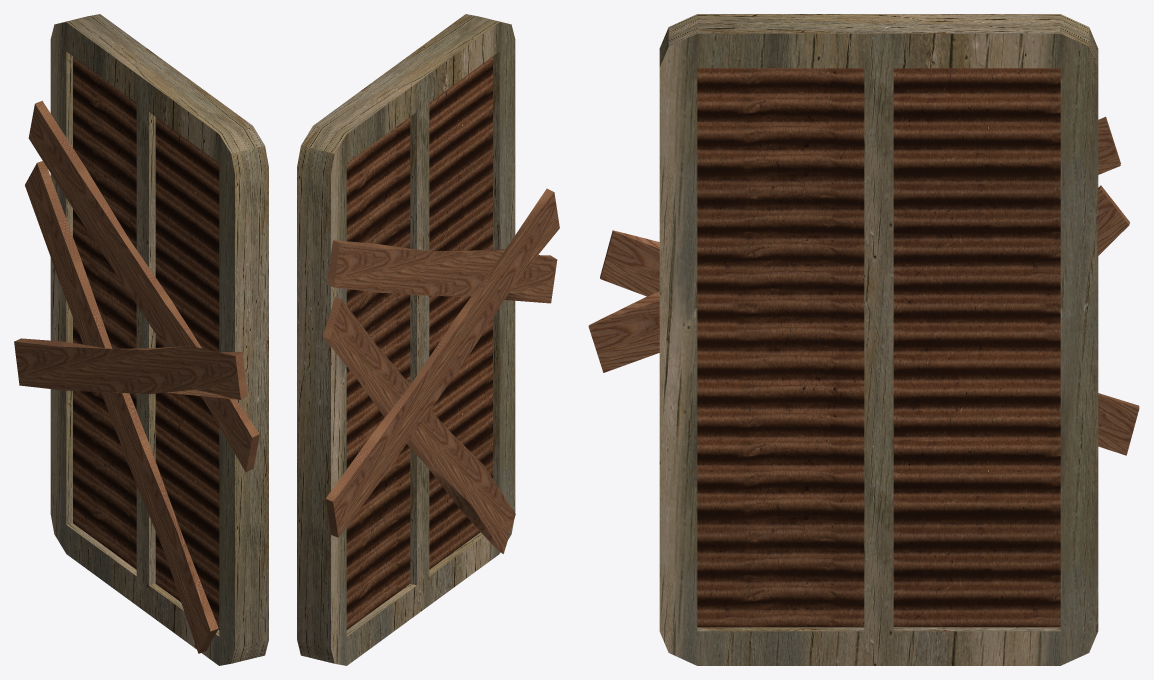
File: boardedwindow3.FBX
3 renders of one model, left to right at view 1: azimuth 30°, elevation 25°; view 2: azimuth 150°, elevation 25°; view 3: azimuth 270°, elevation 25°, orthographic. The views are drawn at different scales.
Parts seen in each view (by area): view 1: boarded window, window, Box003, Box002, Box004; view 2: boarded window, window, Box004, Box003, Box002; view 3: window, boarded window, Box004, Box002, Box003.
Boxes of the visible parts, <box> form: boarded window: <box>50,14,268,665</box>; window: <box>73,56,219,629</box>; Box003: <box>25,161,218,653</box>; Box002: <box>28,100,259,472</box>; Box004: <box>14,338,247,399</box>; boarded window: <box>297,14,515,665</box>; window: <box>346,56,492,629</box>; Box004: <box>325,188,559,537</box>; Box003: <box>323,296,515,553</box>; Box002: <box>326,240,557,303</box>; window: <box>697,68,1060,627</box>; boarded window: <box>659,14,1098,665</box>; Box004: <box>600,230,1139,455</box>; Box002: <box>588,116,1120,372</box>; Box003: <box>1098,185,1129,255</box>.
Size of the model in its own units: 9.5 by 90.87 by 71.76.
3 materials, 3 textured.
